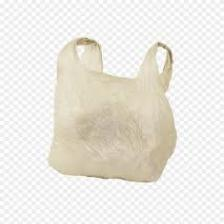plastic: (49, 40, 178, 183)
